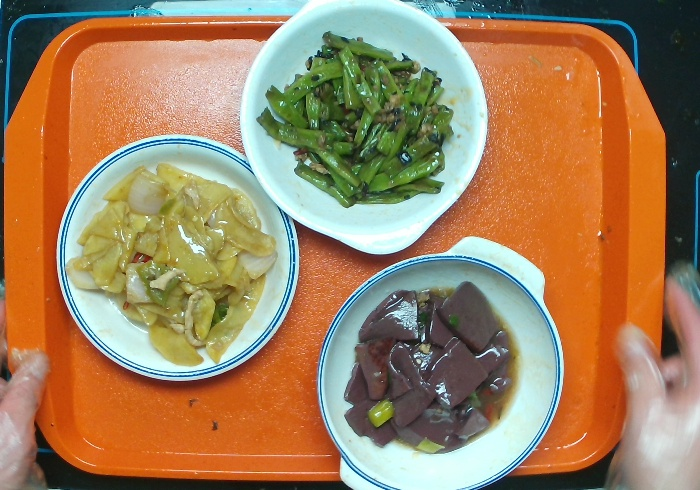HZYJPL-Dai_Er_Bai_Yuan_Wan: (234, 1, 493, 259)
HZYJPL-Lan_Bian_Dai_Er_Wan: (308, 230, 568, 490)
HZYJPL-Lan_Bian_Yuan_Die: (52, 129, 304, 386)
